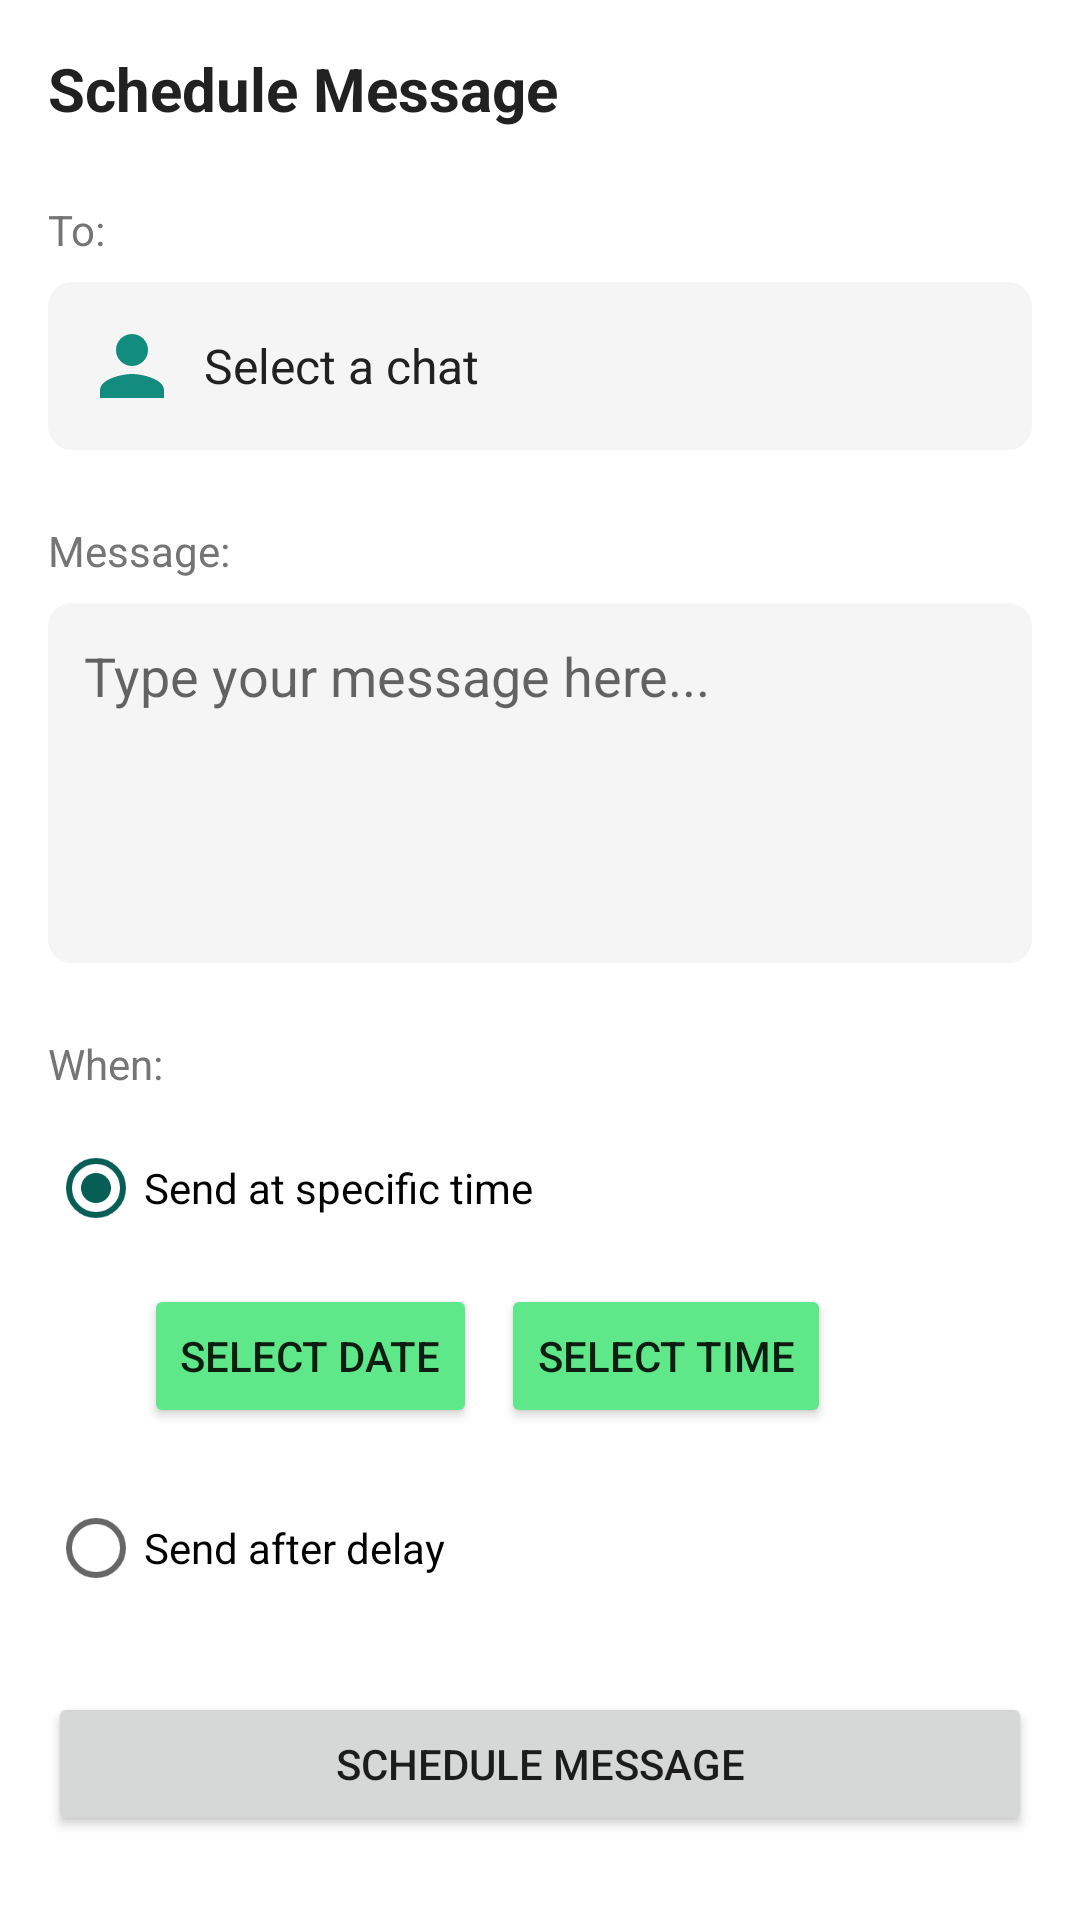

Point at icon controls on the screen. Image size 1080*1920, points as [x,y].
person: [132,366]
